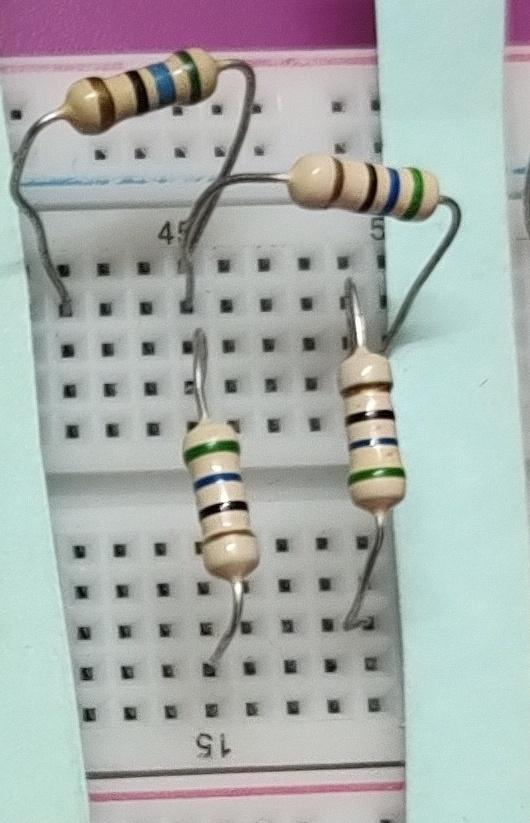resistor: (159, 402, 276, 595), (320, 330, 423, 519), (277, 142, 463, 236), (45, 47, 235, 139)
